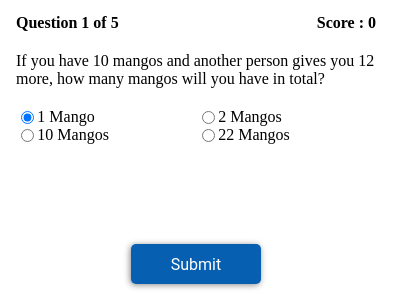
Scenario: Clicking wrong answer renders appropriate result text
Click the 1st radio button with test id "wrong-answer": (28, 118) x1=21 y1=111 x2=34 y2=124
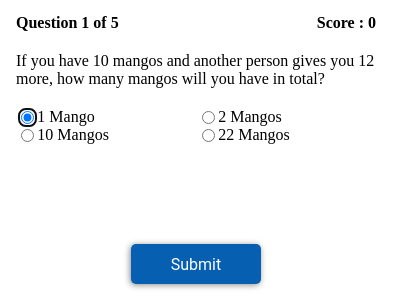
Click the button "Submit": (196, 264) x1=131 y1=244 x2=261 y2=284
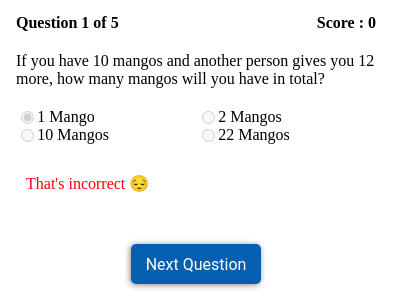
expect the element with test id "results-text" reads "That's incorrect 😔": met, box x1=26 y1=175 x2=149 y2=192
